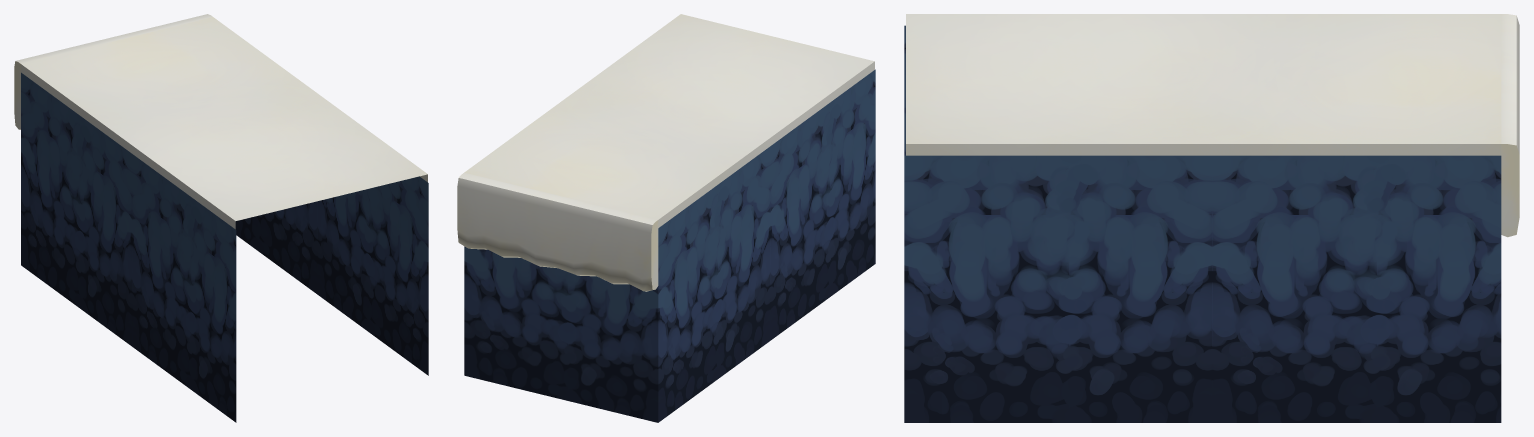
File: lvl2_groundTop.fbx
3 renders of one model, left to right at view 1: azimuth 30°, elevation 25°; view 2: azimuth 150°, elevation 25°; view 3: azimuth 270°, elevation 25°, orthographic. The views are drawn at different scales.
Visible parts, largest first — view 1: groundTop_lvl2; view 2: groundTop_lvl2; view 3: groundTop_lvl2.
Part boxes in pixels (x1=…): groundTop_lvl2: x1=14, y1=14, x2=428, y2=422; groundTop_lvl2: x1=457, y1=14, x2=875, y2=422; groundTop_lvl2: x1=904, y1=14, x2=1519, y2=422.
Size of the model in its own units: 100 by 100 by 200.
